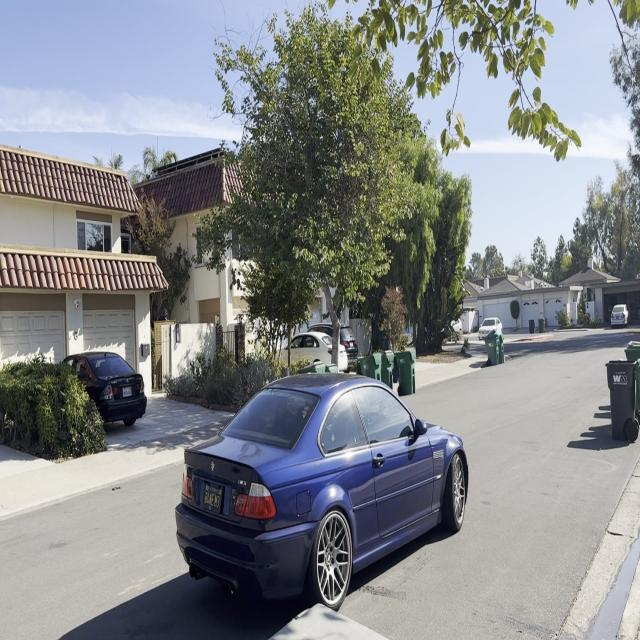Carbeetle: (173, 370, 469, 620)
Civilian: (41, 322, 150, 441), (261, 325, 346, 372), (605, 293, 632, 332), (477, 309, 501, 348), (342, 325, 364, 356)
